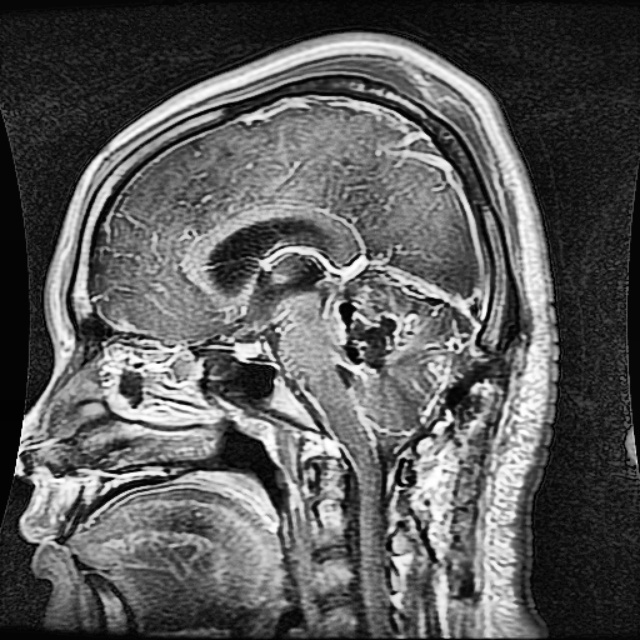Meningioma: (335, 280, 418, 394)
